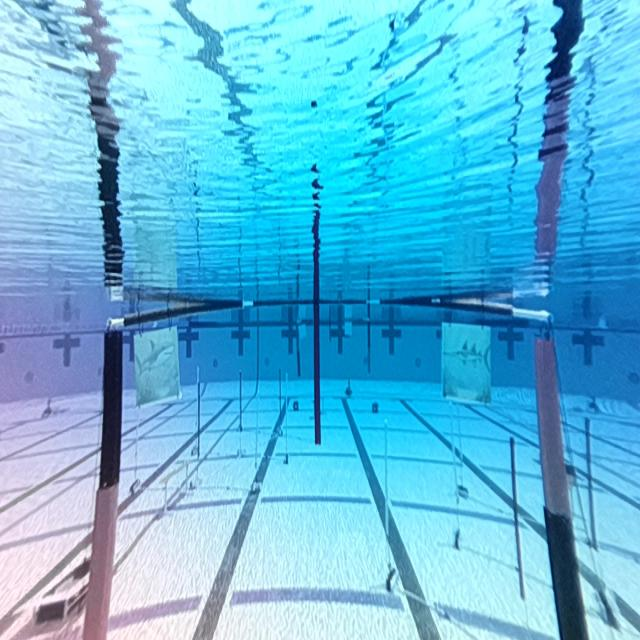pointed_nose: (443, 336, 492, 382)
round_nose: (129, 326, 178, 394)
